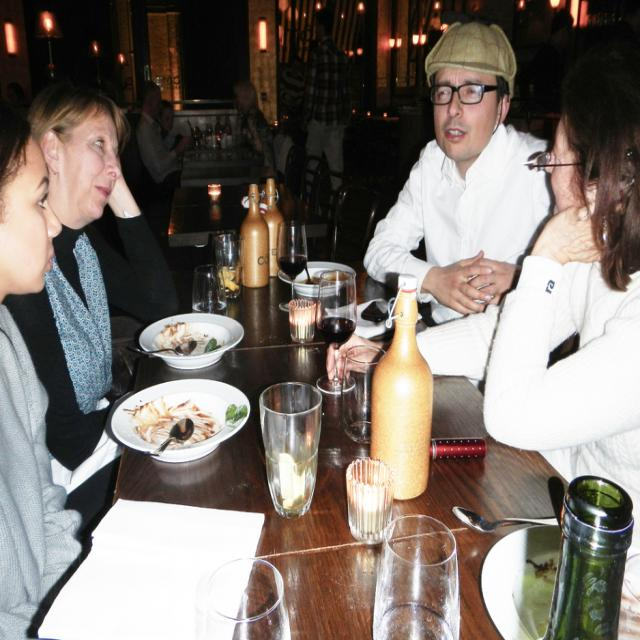Glasses: (430, 84, 504, 106), (524, 150, 581, 173)
